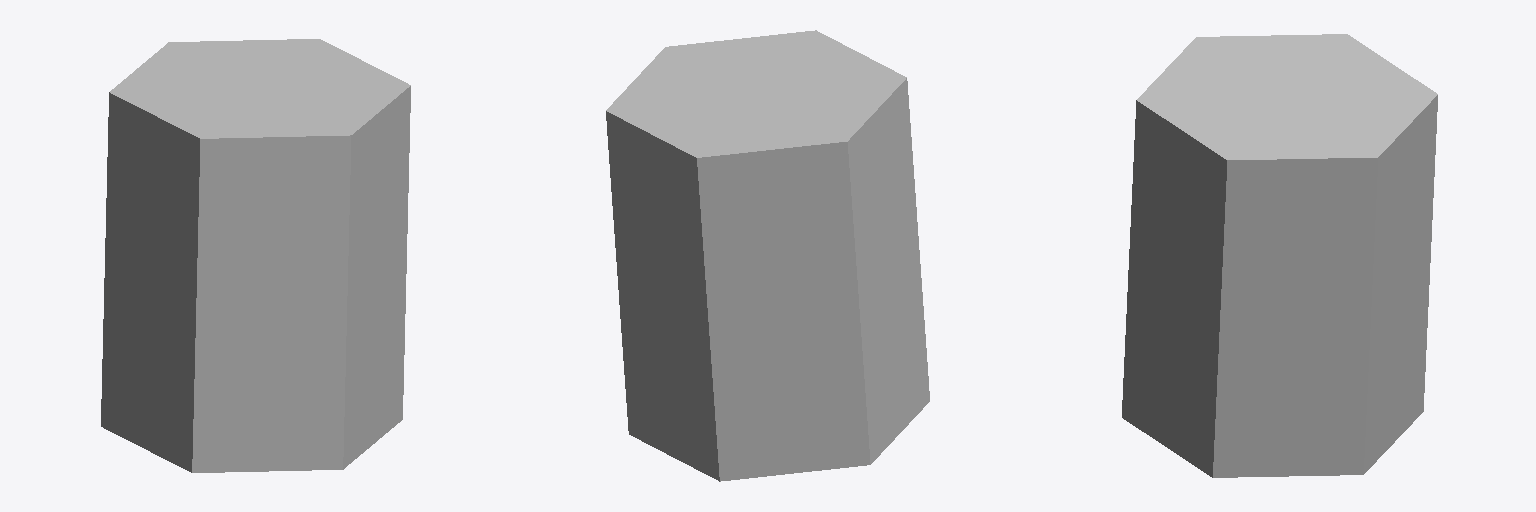
Rendered from hex.obj.
3 views of the same model, side by side, from view 1: azimuth 30°, elevation 25°; view 2: azimuth 150°, elevation 25°; view 3: azimuth 270°, elevation 25° (orthographic).
Parts seen in each view (by area): view 1: Mesh1 Model; view 2: Mesh1 Model; view 3: Mesh1 Model.
Boxes of the visible parts, x1,y1,x2,y2 form: Mesh1 Model: [101, 39, 410, 472]; Mesh1 Model: [606, 30, 929, 481]; Mesh1 Model: [1122, 34, 1437, 477].
Bounding box in the file's own units: 1.56 × 1.99 × 1.66.